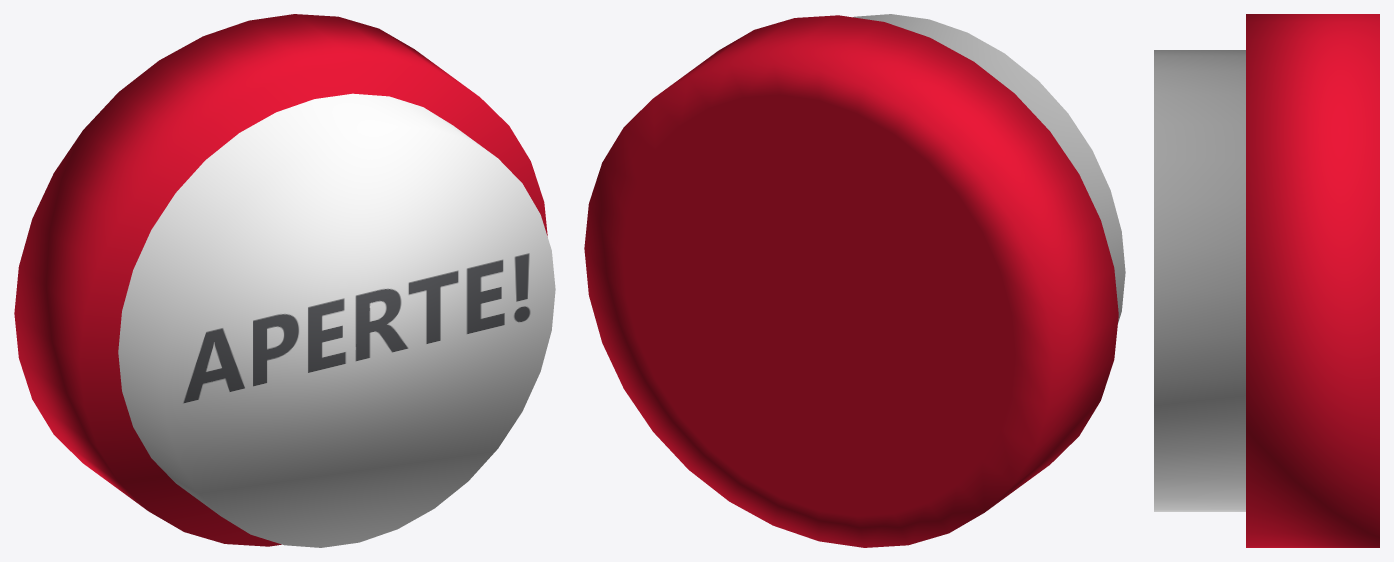
File: Botao_Vermelho.glb
The picture shows the model from 3 angles, left to right: view 1: azimuth 30°, elevation 25°; view 2: azimuth 150°, elevation 25°; view 3: azimuth 270°, elevation 25°; orthographic projection. The views are drawn at different scales.
Visible parts, largest first — view 1: Cylinder; view 2: Cylinder; view 3: Cylinder.
Part boxes in pixels (<box>): Cylinder: <box>14,14,555,547</box>; Cylinder: <box>584,14,1125,547</box>; Cylinder: <box>1154,14,1379,547</box>.
Size of the model in its own units: 1.37 by 1.32 by 0.5605.
Materials: 2 (1 with a texture image).
